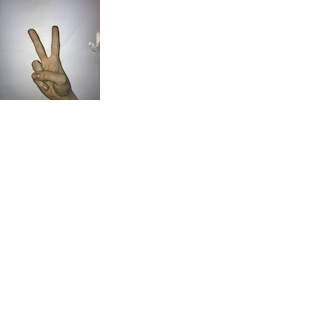scissors: (22, 22, 78, 96)
